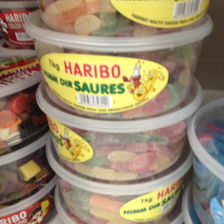candy: (25, 16, 215, 120), (33, 95, 210, 180)
